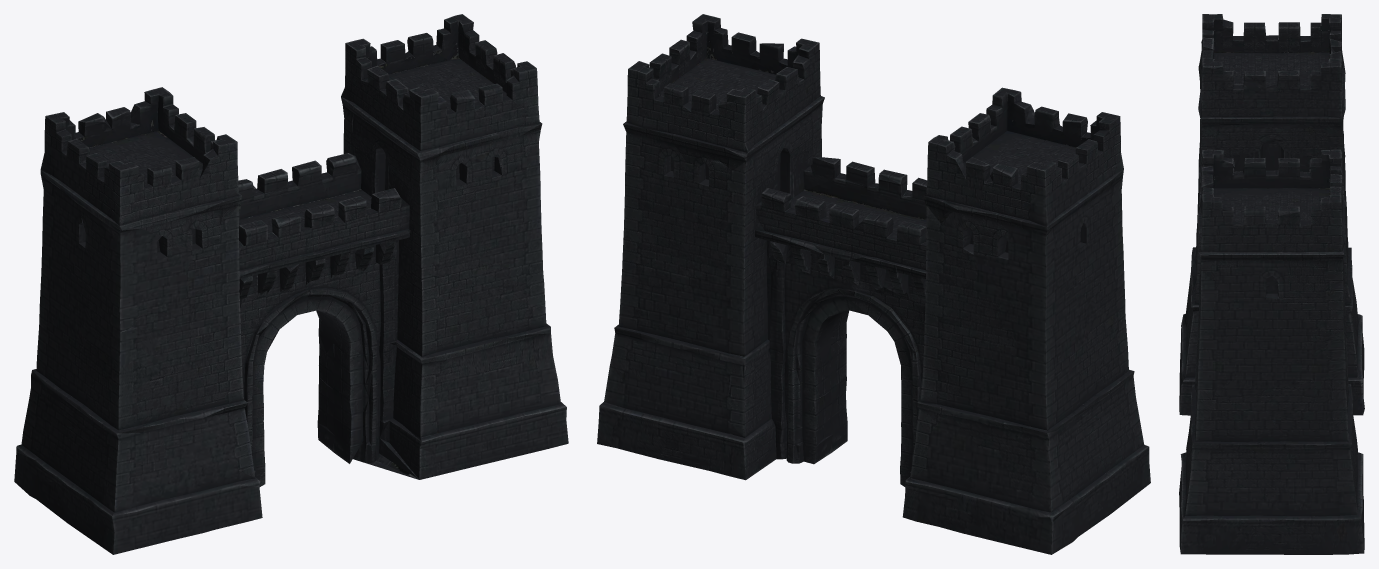
Rendered from main_gate.glb.
3 views of the same model, side by side, from view 1: azimuth 30°, elevation 25°; view 2: azimuth 150°, elevation 25°; view 3: azimuth 270°, elevation 25° (orthographic). The views are drawn at different scales.
Visible parts, largest first — view 1: output_unwrapped; view 2: output_unwrapped; view 3: output_unwrapped.
Boxes of the visible parts, x1,y1,x2,y2 form: output_unwrapped: (14,14,568,554); output_unwrapped: (597,14,1150,554); output_unwrapped: (1179,14,1364,554).
Size of the model in its own units: 1.9 by 1.47 by 0.7184.
1 material, 1 textured.
